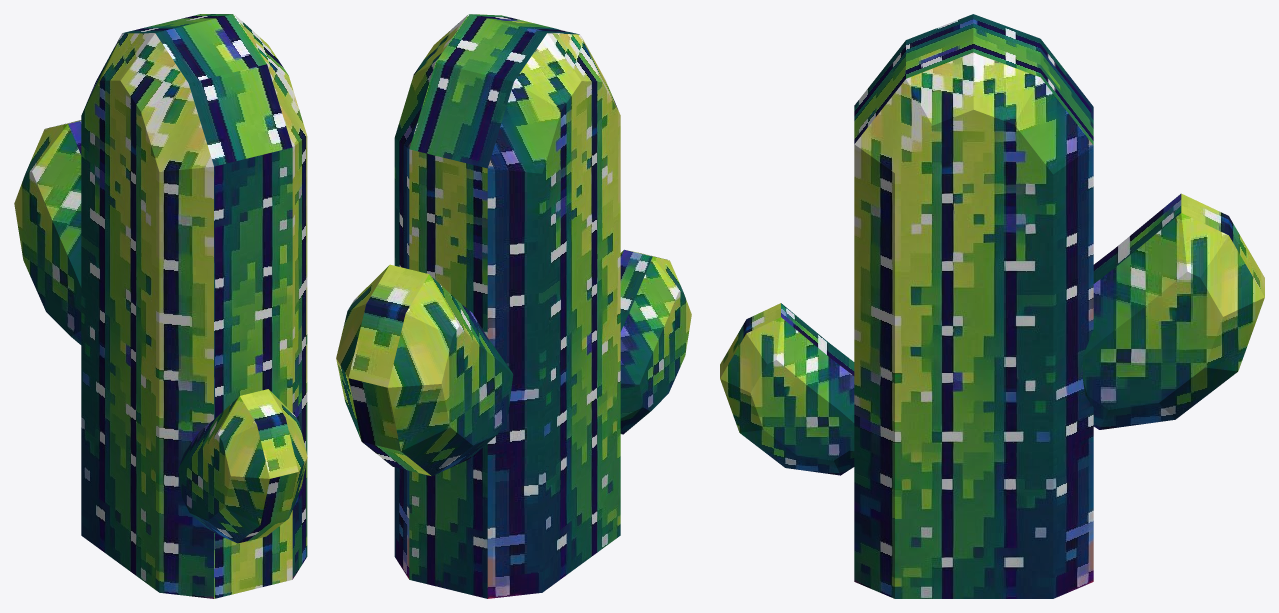
The model's file is Cactus.glb.
3 views of the same model, side by side, from view 1: azimuth 30°, elevation 25°; view 2: azimuth 150°, elevation 25°; view 3: azimuth 270°, elevation 25° (orthographic).
Visible parts, largest first — view 1: OIG3 (13), OIG3 (13).001, OIG3 (13).002; view 2: OIG3 (13), OIG3 (13).002, OIG3 (13).001; view 3: OIG3 (13), OIG3 (13).002, OIG3 (13).001.
Part boxes in pixels (x1=…): OIG3 (13): x1=81, y1=14, x2=307, y2=598; OIG3 (13).001: x1=178, y1=389, x2=307, y2=543; OIG3 (13).002: x1=14, y1=120, x2=81, y2=344; OIG3 (13): x1=394, y1=14, x2=620, y2=598; OIG3 (13).002: x1=336, y1=264, x2=513, y2=476; OIG3 (13).001: x1=620, y1=249, x2=691, y2=434; OIG3 (13): x1=854, y1=14, x2=1093, y2=598; OIG3 (13).002: x1=1083, y1=193, x2=1264, y2=429; OIG3 (13).001: x1=720, y1=303, x2=854, y2=475.
Size of the model in its own units: 0.1645 by 0.5556 by 0.5186.
1 material, 1 textured.
